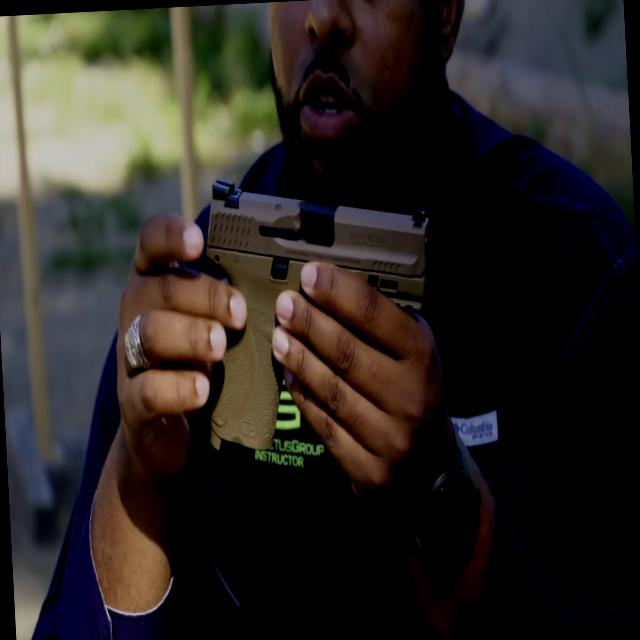handgun: (173, 170, 459, 505)
